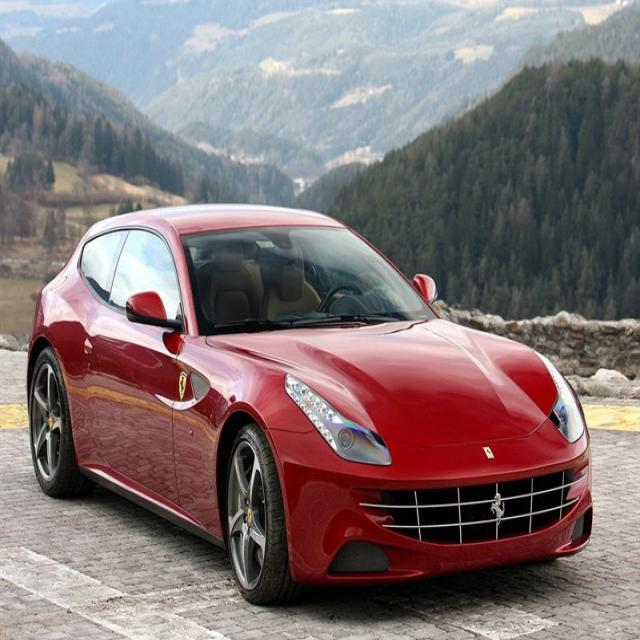front_glass: (178, 222, 442, 340)
front_left_side_mirror: (412, 270, 441, 312)
front_right_side_door: (78, 208, 188, 514)
front_right_side_light: (284, 371, 394, 464), (532, 348, 587, 447)
front_right_side_mirror: (123, 282, 188, 347)
wheel: (222, 418, 296, 602), (28, 340, 78, 502)
